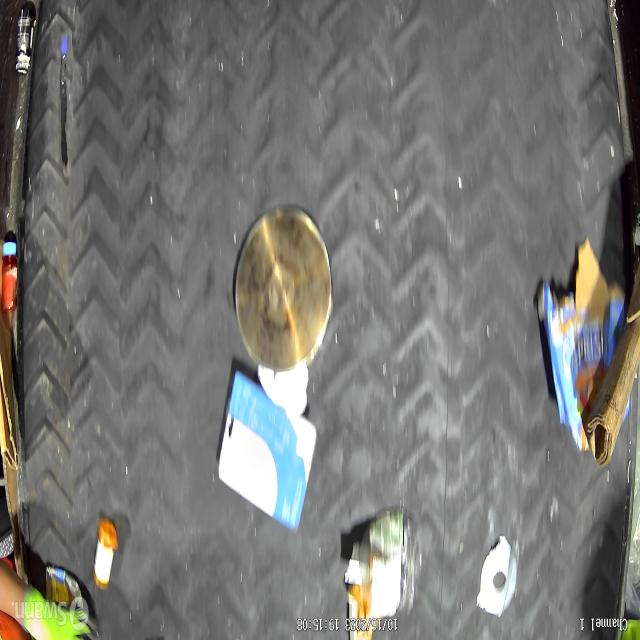can: (44, 564, 84, 610)
